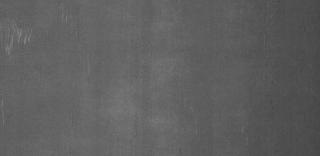silk spot: (5, 16, 33, 50)
